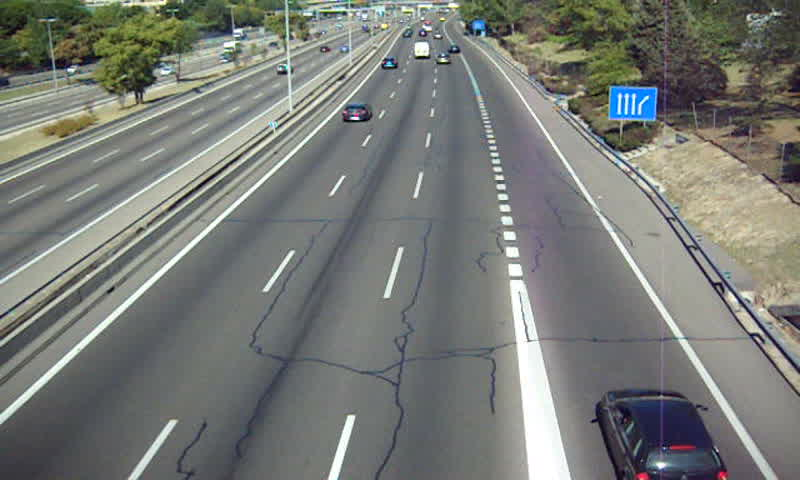car: (600, 389, 726, 480), (341, 102, 372, 123), (380, 57, 399, 69)
van: (414, 40, 431, 59)
